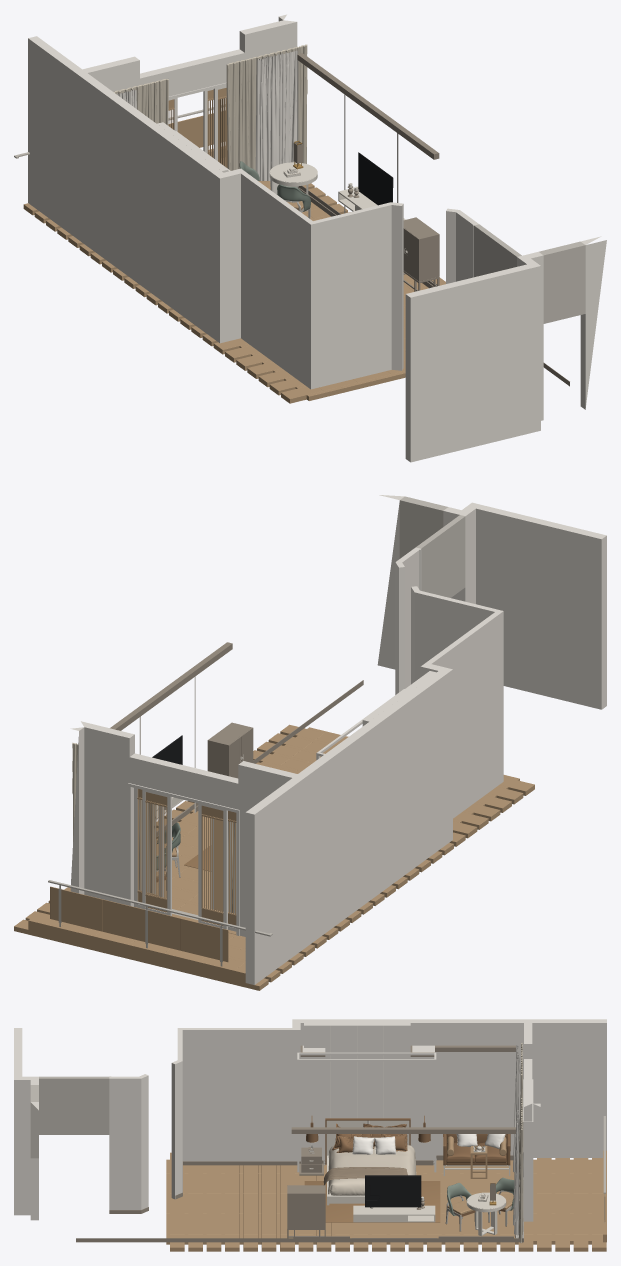
Rendered from lux-312.glb.
3 views of the same model, one above another, from view 1: azimuth 30°, elevation 25°; view 2: azimuth 150°, elevation 25°; view 3: azimuth 270°, elevation 25° (orthographic). The views are drawn at different scales.
Visible parts, largest first — view 1: Line001, 【售模接图Q42333301】056, Rectangle002, 对象07, Rectangle001, Rectangle047, Rectangle019, 对象008, cgaxis_electronics_02_04, Rectangle1410075693, Rectangle1410075740, Circle3553 (+1 smaller); view 2: Line001, Rectangle002, Rectangle001, Rectangle1111126452, Rectangle1410075740, Rectangle1410075693, Line1789528416, Rectangle1410075692, Rectangle1410075690, 对象07, Rectangle047, Rectangle019 (+8 smaller); view 3: Line001, Rectangle034, Rectangle055, Rectangle002, Line1789528678, Rectangle060, 被子, cgaxis_electronics_02_01, Rectangle068, Rectangle047, ChamferBox01, Line1789528416 (+23 smaller).
Boxes of the visible parts, x1,y1,x2,y2 form: Line001: [28, 14, 606, 462]; 【售模接图Q42333301】056: [255, 50, 297, 194]; Rectangle002: [474, 224, 585, 323]; 对象07: [226, 44, 307, 186]; Rectangle001: [140, 49, 244, 96]; Rectangle047: [297, 53, 439, 159]; Rectangle019: [403, 217, 439, 280]; 对象008: [113, 78, 168, 125]; cgaxis_electronics_02_04: [359, 156, 390, 204]; Rectangle1410075693: [177, 110, 225, 147]; Rectangle1410075740: [208, 98, 226, 166]; Circle3553: [270, 162, 317, 182]; Line001: [70, 495, 606, 984]; Rectangle002: [399, 496, 465, 597]; Rectangle001: [129, 753, 238, 809]; Rectangle1111126452: [28, 918, 245, 982]; Rectangle1410075740: [147, 803, 166, 898]; Rectangle1410075693: [50, 886, 102, 931]; Line1789528416: [128, 783, 239, 935]; Rectangle1410075692: [180, 918, 228, 962]; Rectangle1410075690: [102, 899, 145, 941]; 对象07: [72, 742, 155, 894]; Rectangle047: [110, 642, 232, 730]; Rectangle019: [207, 722, 252, 775]; Line001: [14, 1019, 606, 1220]; Rectangle034: [304, 1023, 410, 1118]; Rectangle055: [437, 1052, 513, 1155]; Rectangle002: [30, 1076, 109, 1158]; Line1789528678: [76, 1161, 523, 1242]; Rectangle060: [412, 1045, 434, 1160]; 被子: [328, 1145, 416, 1195]; cgaxis_electronics_02_01: [365, 1175, 421, 1207]; Rectangle068: [302, 1045, 325, 1160]; Rectangle047: [291, 1127, 515, 1133]; ChamferBox01: [304, 1181, 440, 1222]; Line1789528416: [523, 1079, 533, 1221].
Size of what is drawn, in the model's own units: 5.65 by 3.7 by 14.31.
